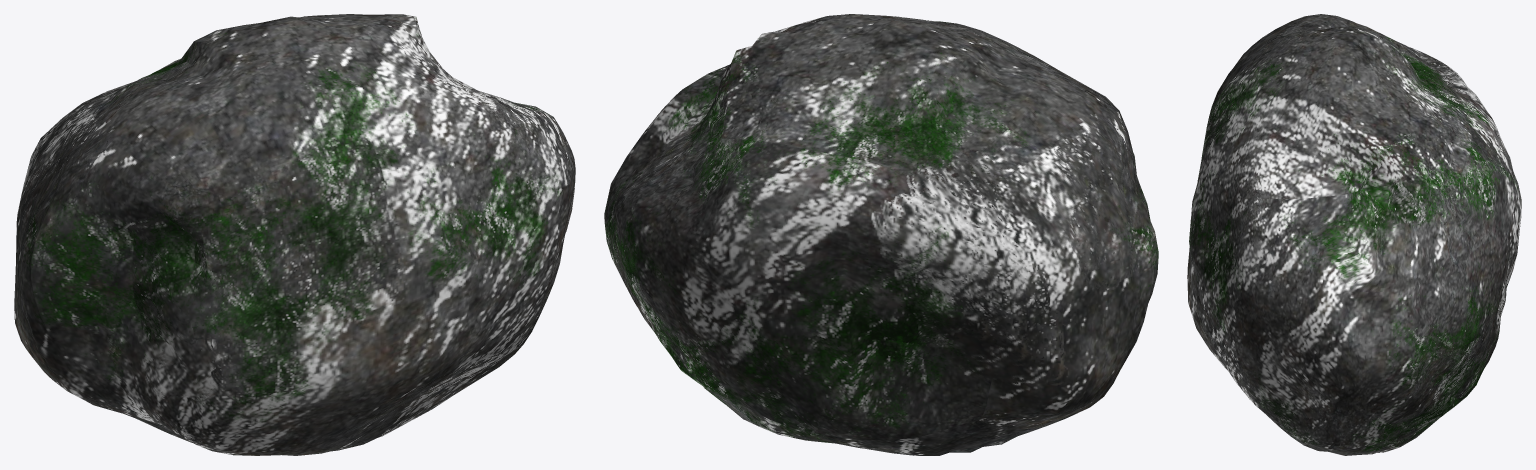
Rendered from rock_2.fbx.
3 renders of one model, left to right at view 1: azimuth 30°, elevation 25°; view 2: azimuth 150°, elevation 25°; view 3: azimuth 270°, elevation 25°, orthographic. The views are drawn at different scales.
Parts seen in each view (by area): view 1: PolySphere; view 2: PolySphere; view 3: PolySphere.
Part boxes in pixels (box(x1,y1,x2,y2)): PolySphere: box(14, 14, 575, 455); PolySphere: box(604, 14, 1158, 455); PolySphere: box(1187, 14, 1521, 455).
Bounding box in the file's own units: 3.81 × 2.85 × 2.37.
